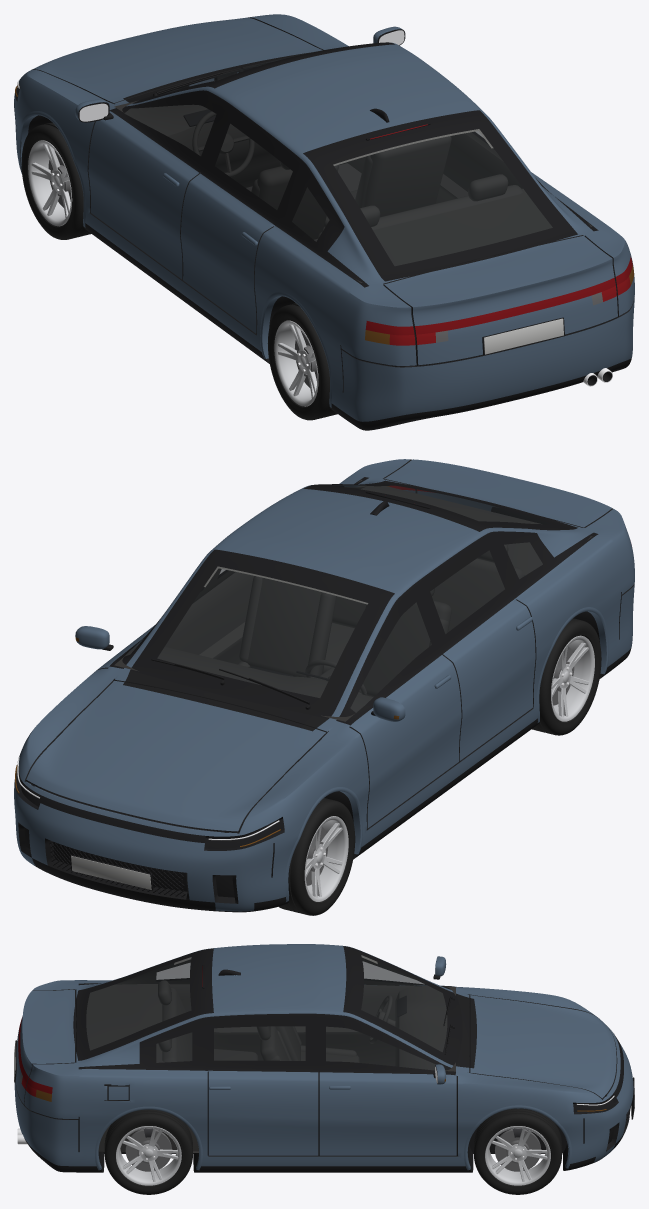
Rendered from sedan_a.glb.
3 renders of one model, top to bottom at view 1: azimuth 30°, elevation 25°; view 2: azimuth 150°, elevation 25°; view 3: azimuth 270°, elevation 25°, orthographic. The views are drawn at different scales.
Parts seen in each view (by area): view 1: body, interior, details, wheel_fl, wheel_rl; view 2: body, interior, details, wheel_fl, wheel_rl, lamp_lens; view 3: body, interior, wheel_fr, wheel_rr, details.
Boxes of the visible parts, bbox=[...] form: body: bbox=[14, 14, 634, 430]; interior: bbox=[114, 79, 592, 303]; details: bbox=[15, 26, 612, 407]; wheel_fl: bbox=[21, 122, 91, 239]; wheel_rl: bbox=[267, 303, 337, 420]; body: bbox=[14, 459, 634, 912]; interior: bbox=[114, 480, 592, 721]; details: bbox=[15, 491, 608, 901]; wheel_fl: bbox=[278, 798, 355, 915]; wheel_rl: bbox=[532, 618, 601, 735]; lamp_lens: bbox=[16, 770, 283, 850]; body: bbox=[14, 944, 633, 1172]; interior: bbox=[86, 955, 455, 1152]; wheel_fr: bbox=[474, 1108, 562, 1194]; wheel_rr: bbox=[104, 1109, 192, 1194]; details: bbox=[14, 956, 634, 1170].
Size of the model in its own units: 2.15 by 1.47 by 4.71.
